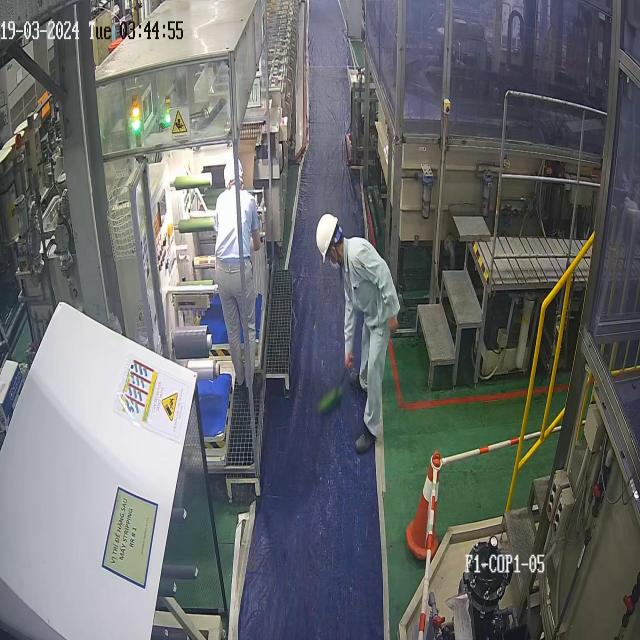Person: (316, 212, 400, 453), (213, 156, 261, 390)
